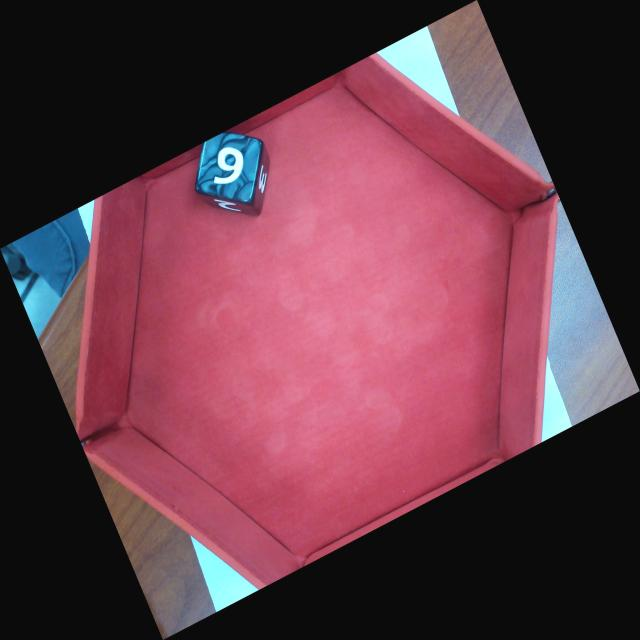dice: (196, 127, 265, 207)
